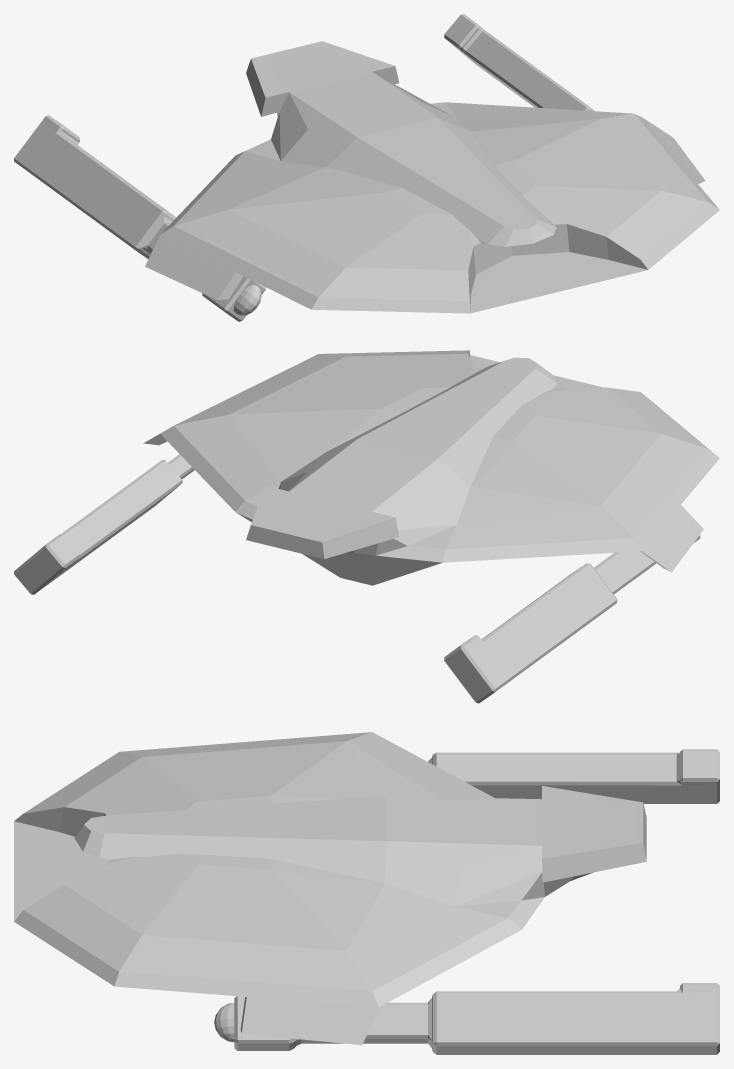
The model's file is FED_SCOUT_III.fbx.
3 views of the same model, one above another, from view 1: azimuth 30°, elevation 25°; view 2: azimuth 150°, elevation 25°; view 3: azimuth 270°, elevation 25° (orthographic). The views are drawn at different scales.
Parts seen in each view (by area): view 1: Saber; view 2: Saber; view 3: Saber.
Part boxes in pixels (<box>): Saber: <box>14,14,719,321</box>; Saber: <box>14,350,719,703</box>; Saber: <box>14,732,719,1054</box>.
Bounding box in the file's own units: 16237 × 16266 × 2992.
